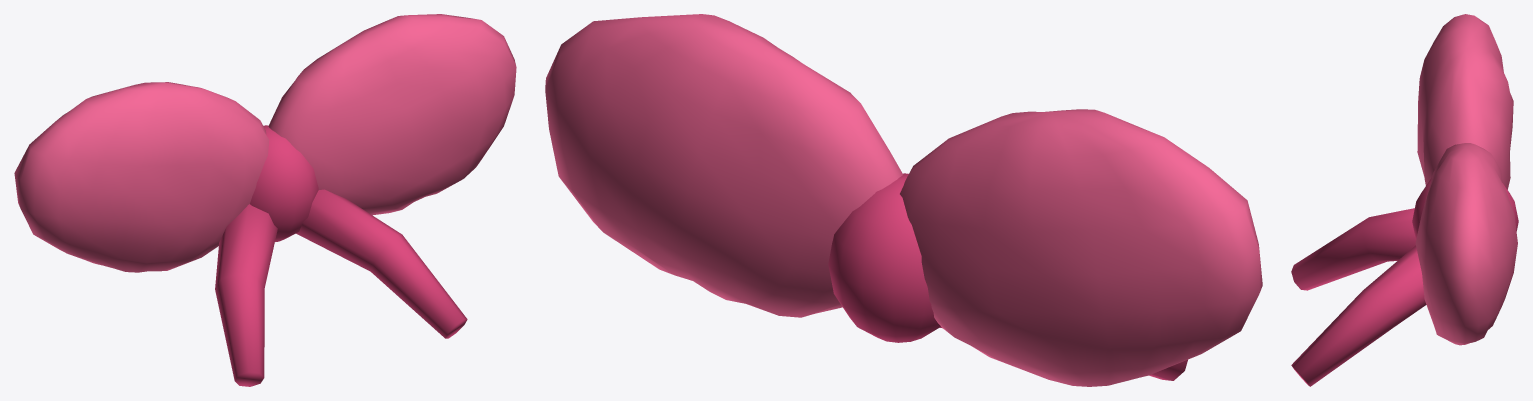
The model's file is cosmetics-bow.glb.
3 renders of one model, left to right at view 1: azimuth 30°, elevation 25°; view 2: azimuth 150°, elevation 25°; view 3: azimuth 270°, elevation 25°, orthographic. The views are drawn at different scales.
Visible parts, largest first — view 1: Bow__Loops, Bow__Knot; view 2: Bow__Loops, Bow__Knot; view 3: Bow__Loops, Bow__Knot.
Boxes of the visible parts, box(x1,y1,x2,y2) form: Bow__Loops: box(14, 14, 516, 272); Bow__Knot: box(215, 125, 467, 386); Bow__Loops: box(545, 14, 1262, 386); Bow__Knot: box(828, 173, 1187, 380); Bow__Loops: box(1415, 14, 1517, 345); Bow__Knot: box(1291, 178, 1518, 386).
Bounding box in the file's own units: 1.15 × 0.5582 × 0.4697.
